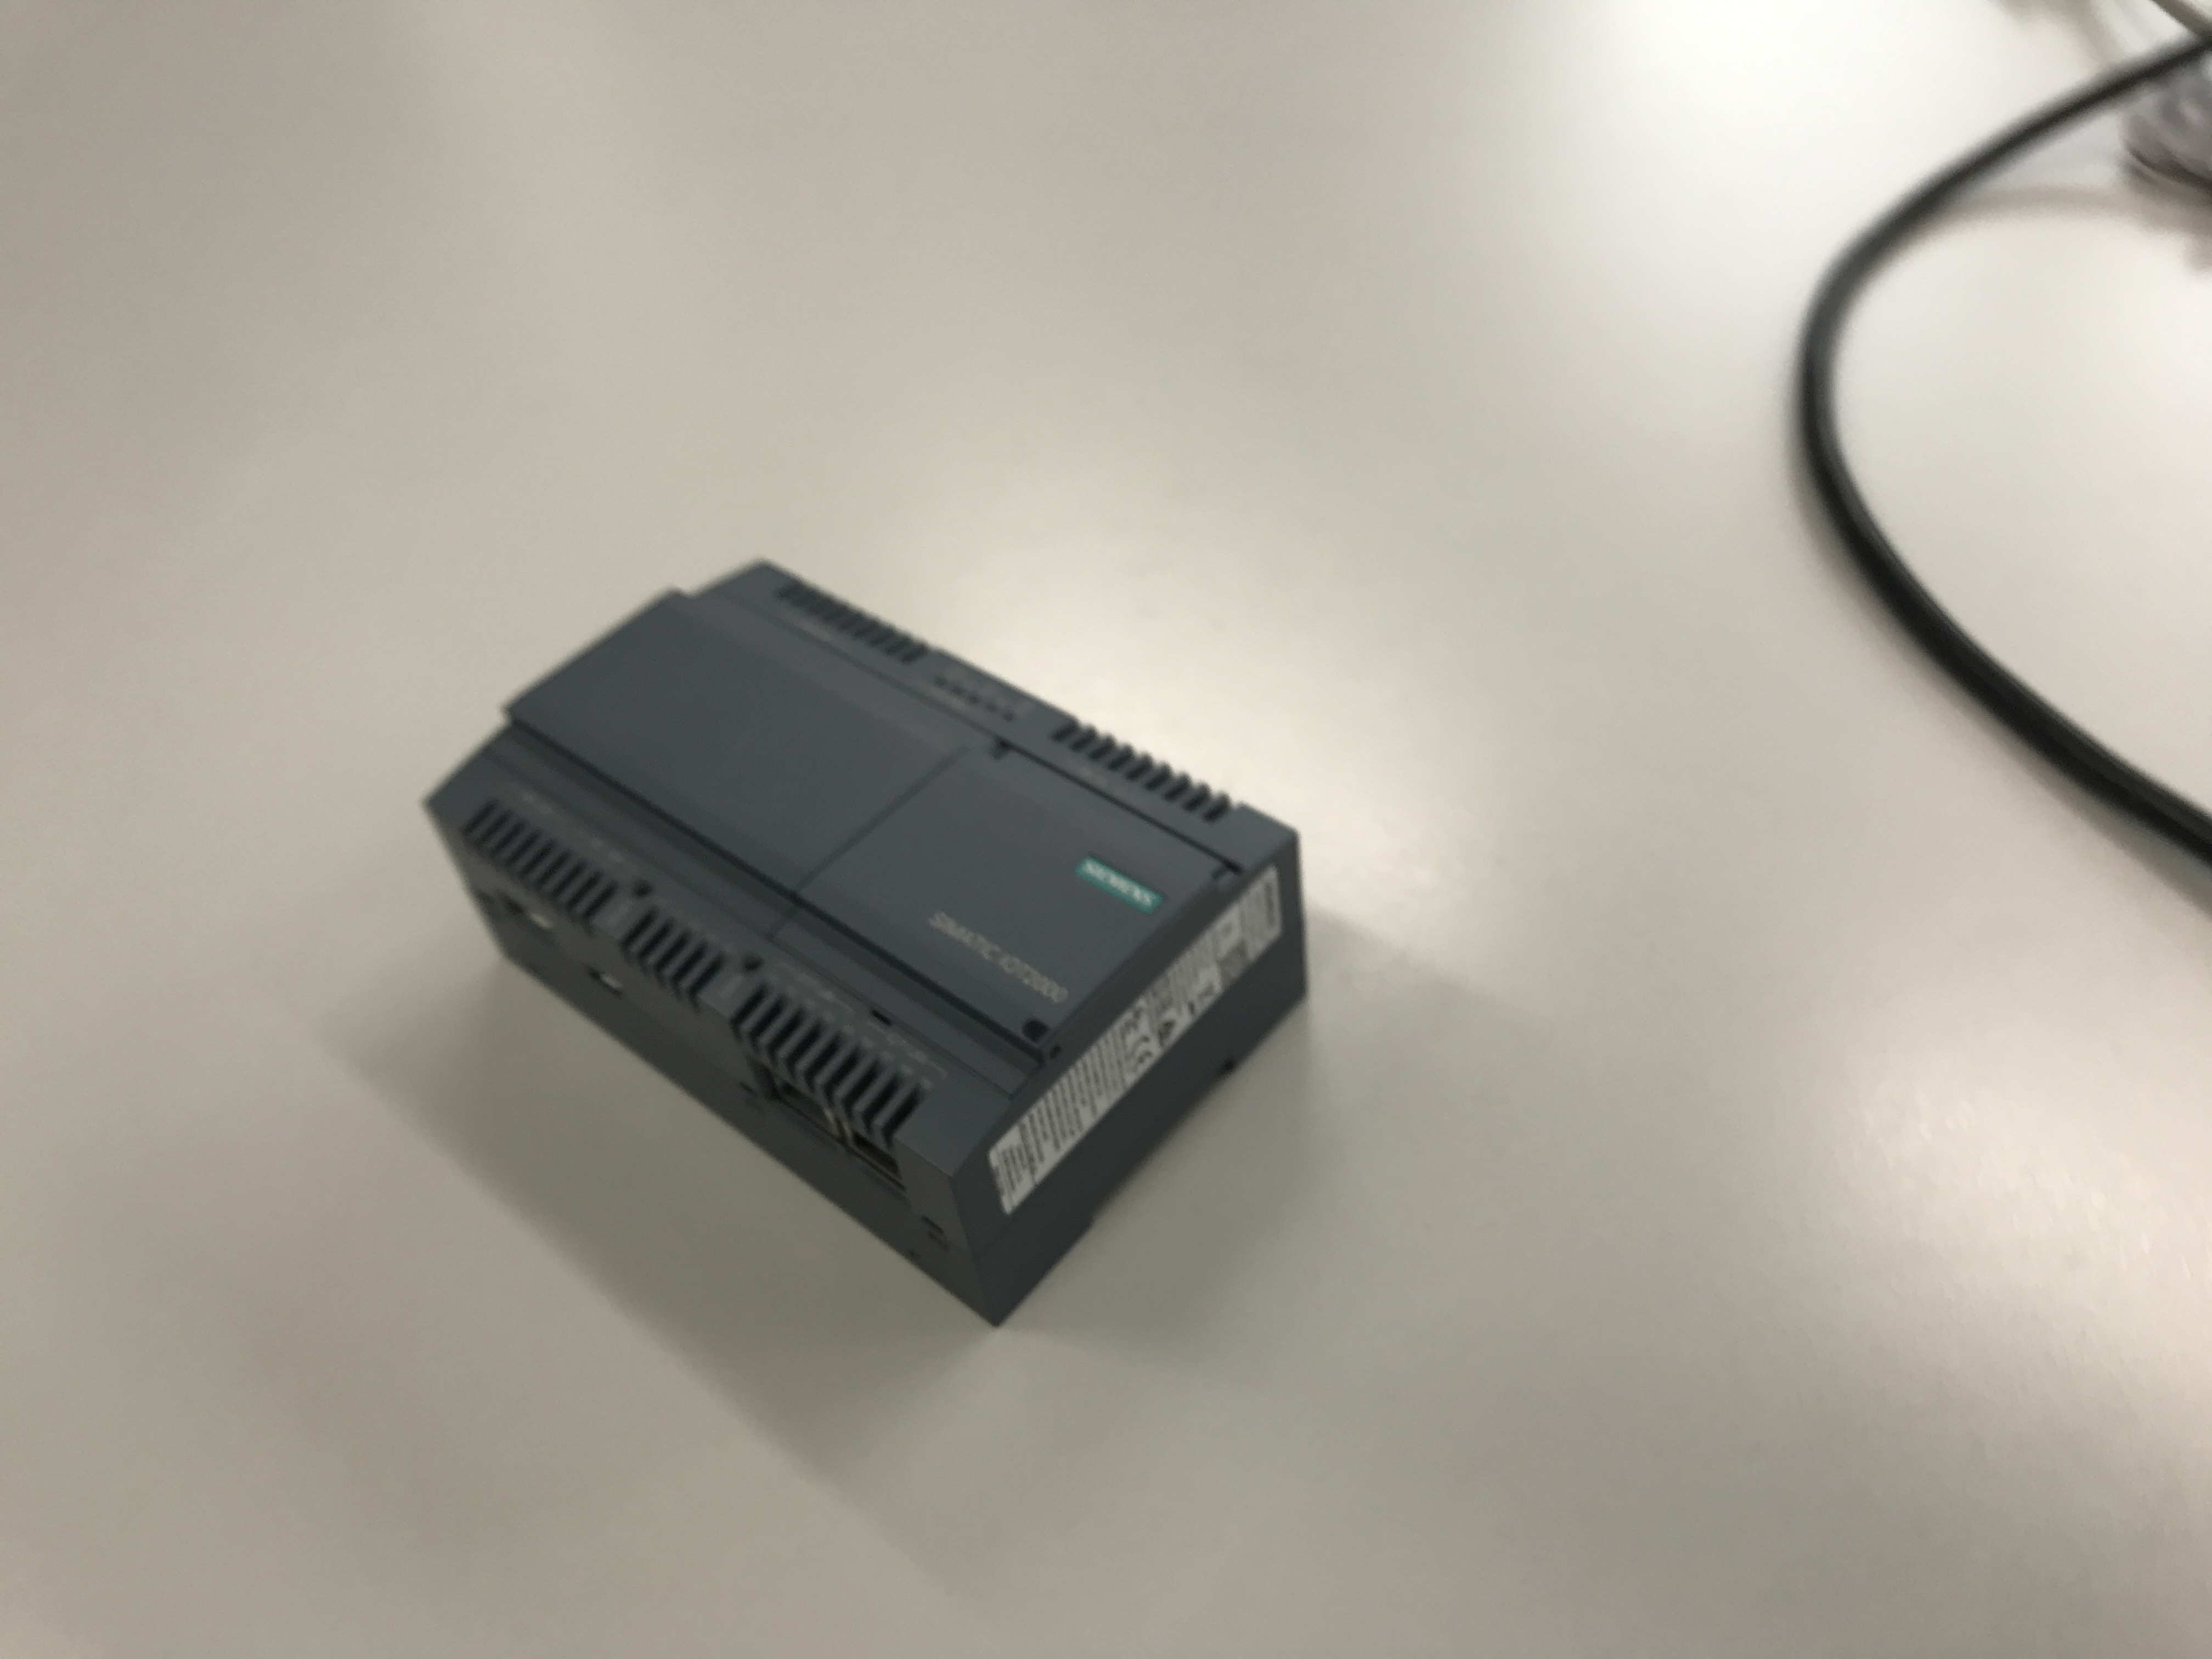device: (420, 558, 1310, 1330)
